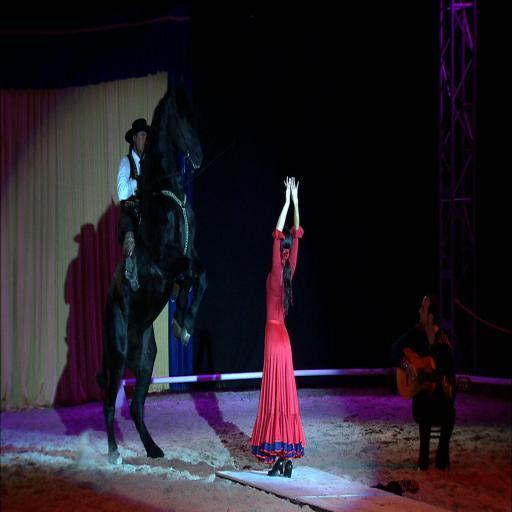horse: (102, 70, 208, 468)
